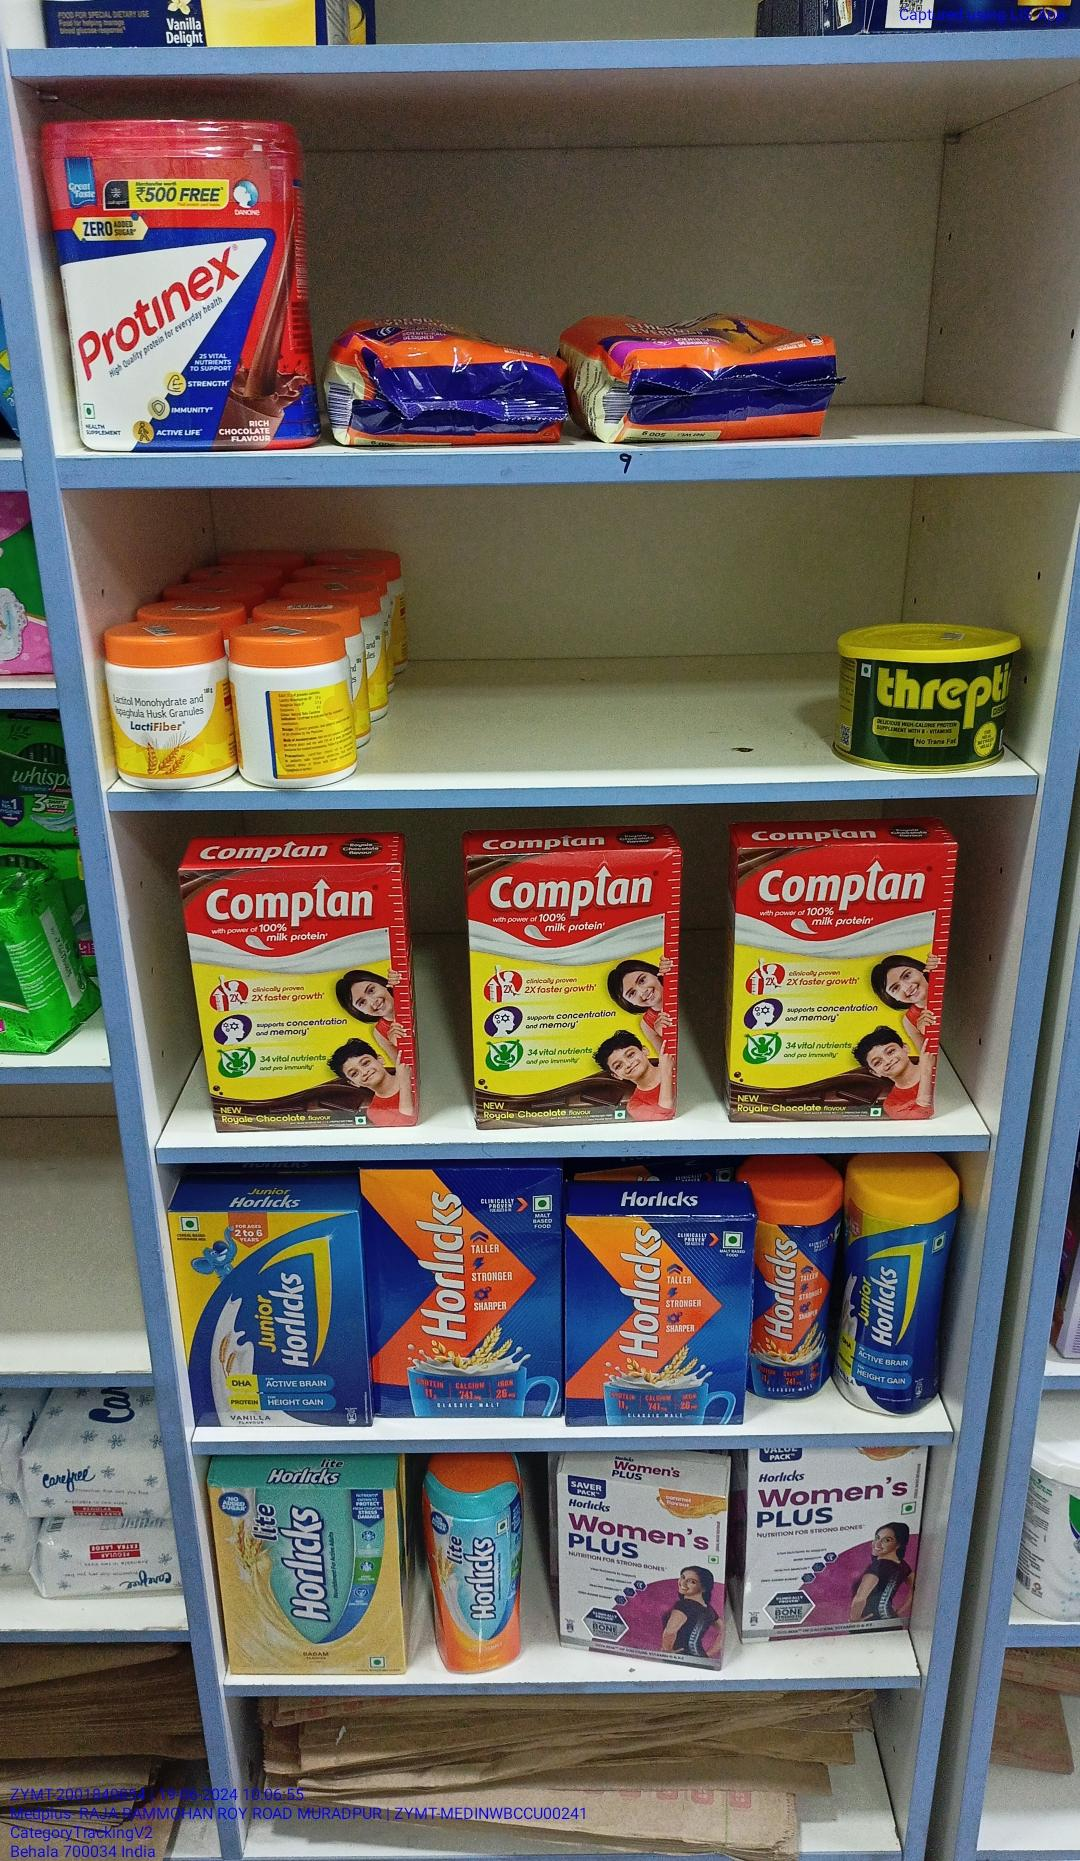HORLICKS_LITE_REGULAR_MALT_500_GM_JAR: (424, 1470, 518, 1677)
PROTINEX_CHOCOLATE_400_G_JAR: (57, 123, 305, 454)
